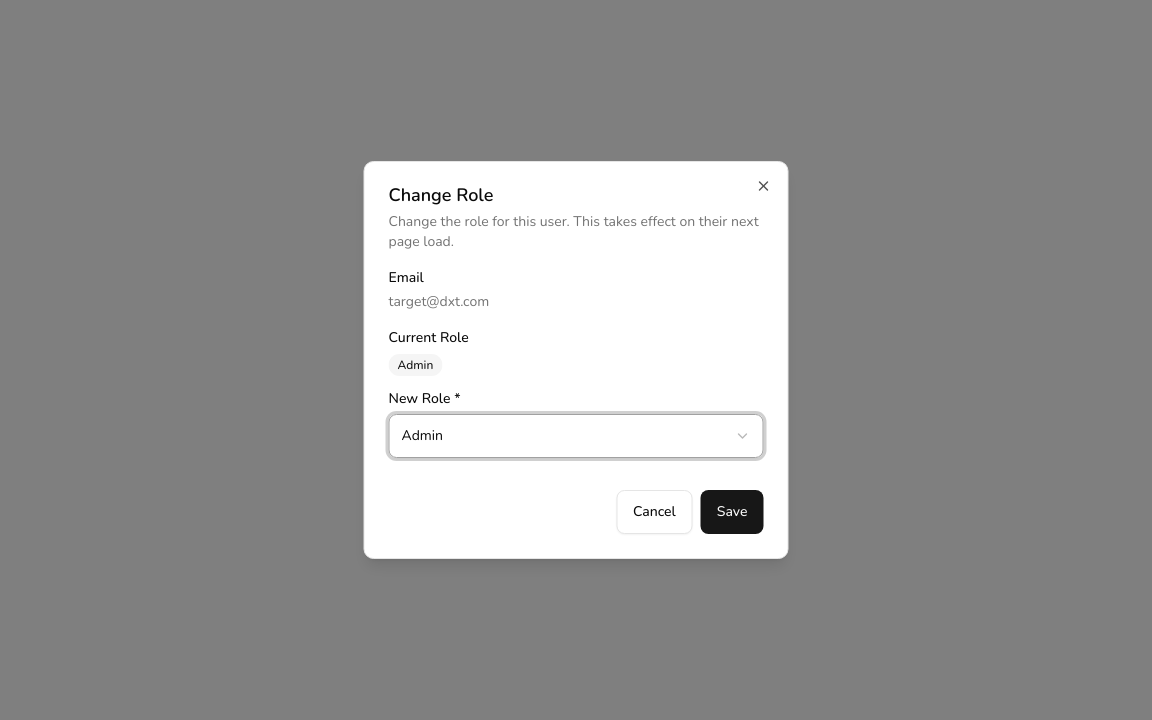
Test: EditRoleDialog › should show loading state during submission
This screenshot has width=1152, height=720.
Press the mouse on the dropdown with test id "role-select" at (422,436), box [388,414,764,458]
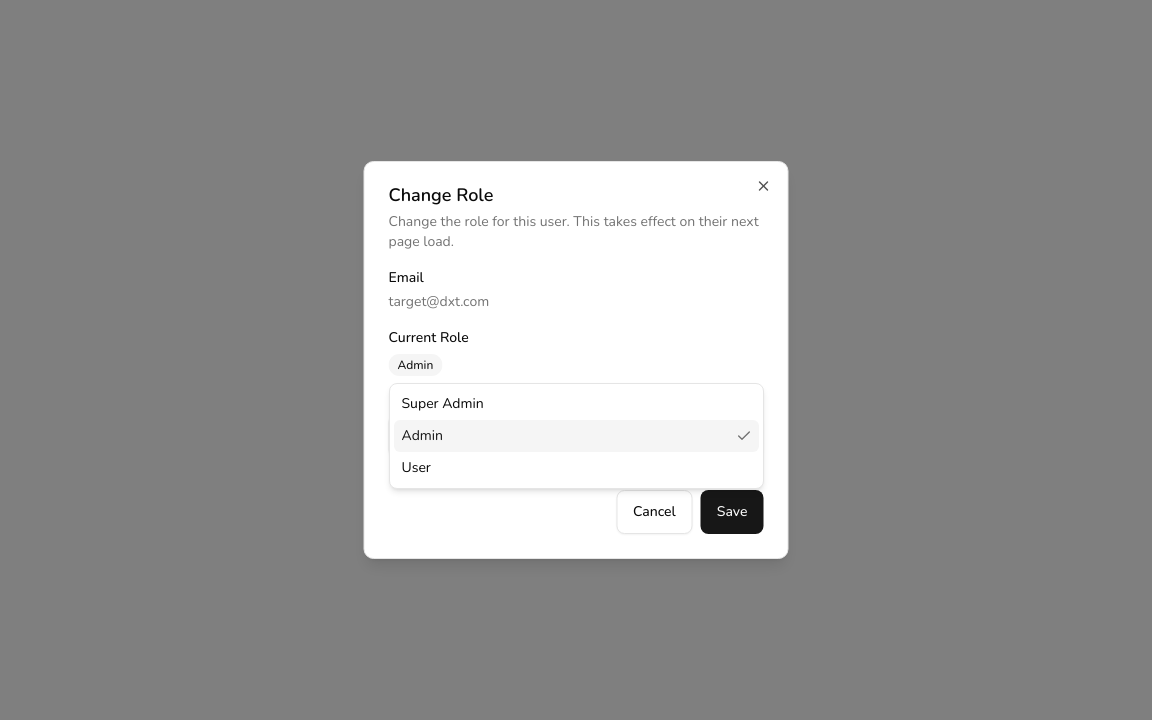
Result: the option "User" is shown
Click the option "User" at (416,468), box [402,458,431,477]
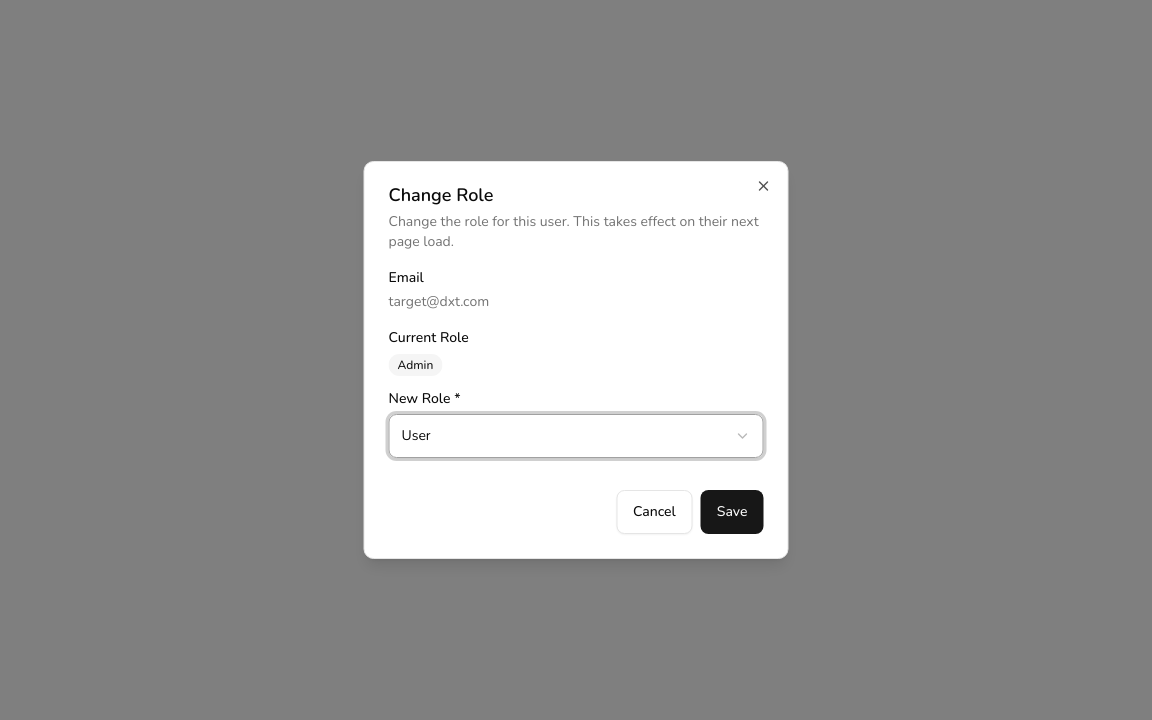
Click the button with test id "save-button" at (732,512), box [701,490,764,534]
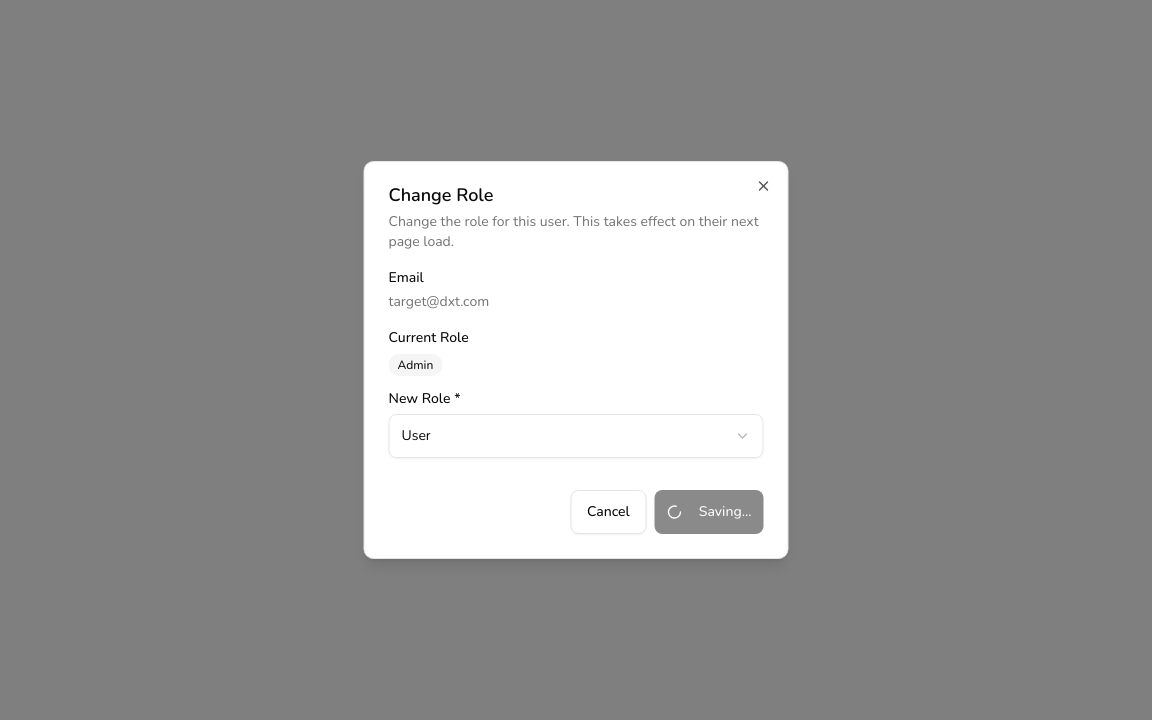
Result: the button with test id "save-button" is disabled at [655,490,764,534]
